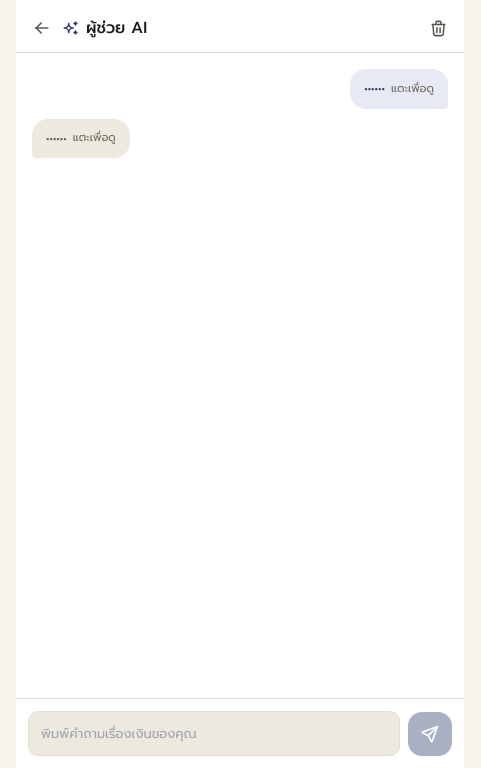
it: hideBalance masks the RELOADED transcript, tap reveals, current round stays open › the current round (just asked) is never covered
In the text box labelled "พิมพ์คำถาม": point(214, 733) [28,710,400,756], type "เดือนนี้ล่ะ"
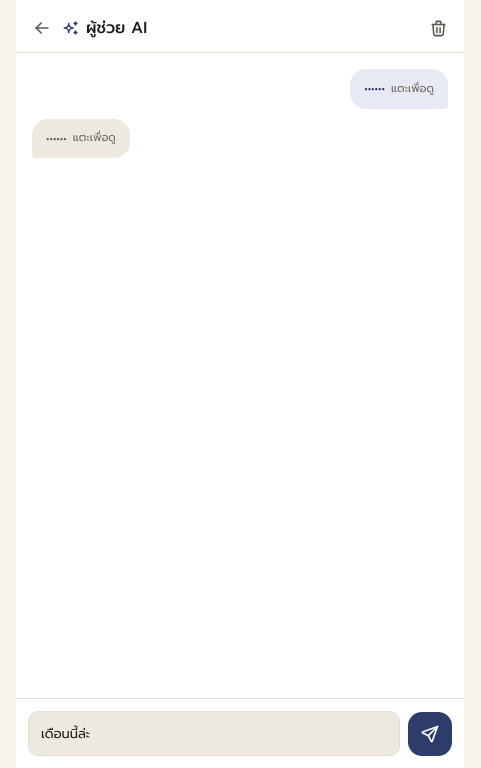
Click the button named "ส่งคำถาม": point(430, 734) [408,712,452,756]
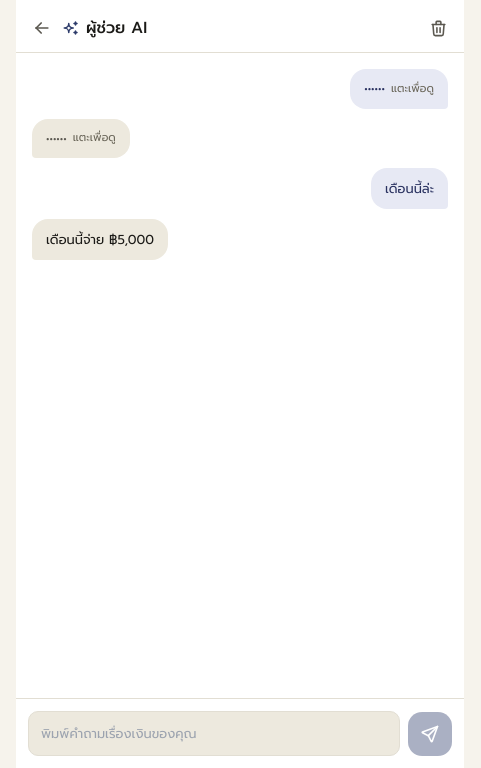
Expected: the number of buttons named "แตะเพื่อแสดงข้อความที่ซ่อนไว้" is 2, [350,69,448,108]; [32,118,130,158]
Expected: the text "เดือนนี้จ่าย ฿5,000" is shown, [32,219,168,260]
Expected: the text "เดือนนี้ล่ะ" is shown, [371,168,448,209]
